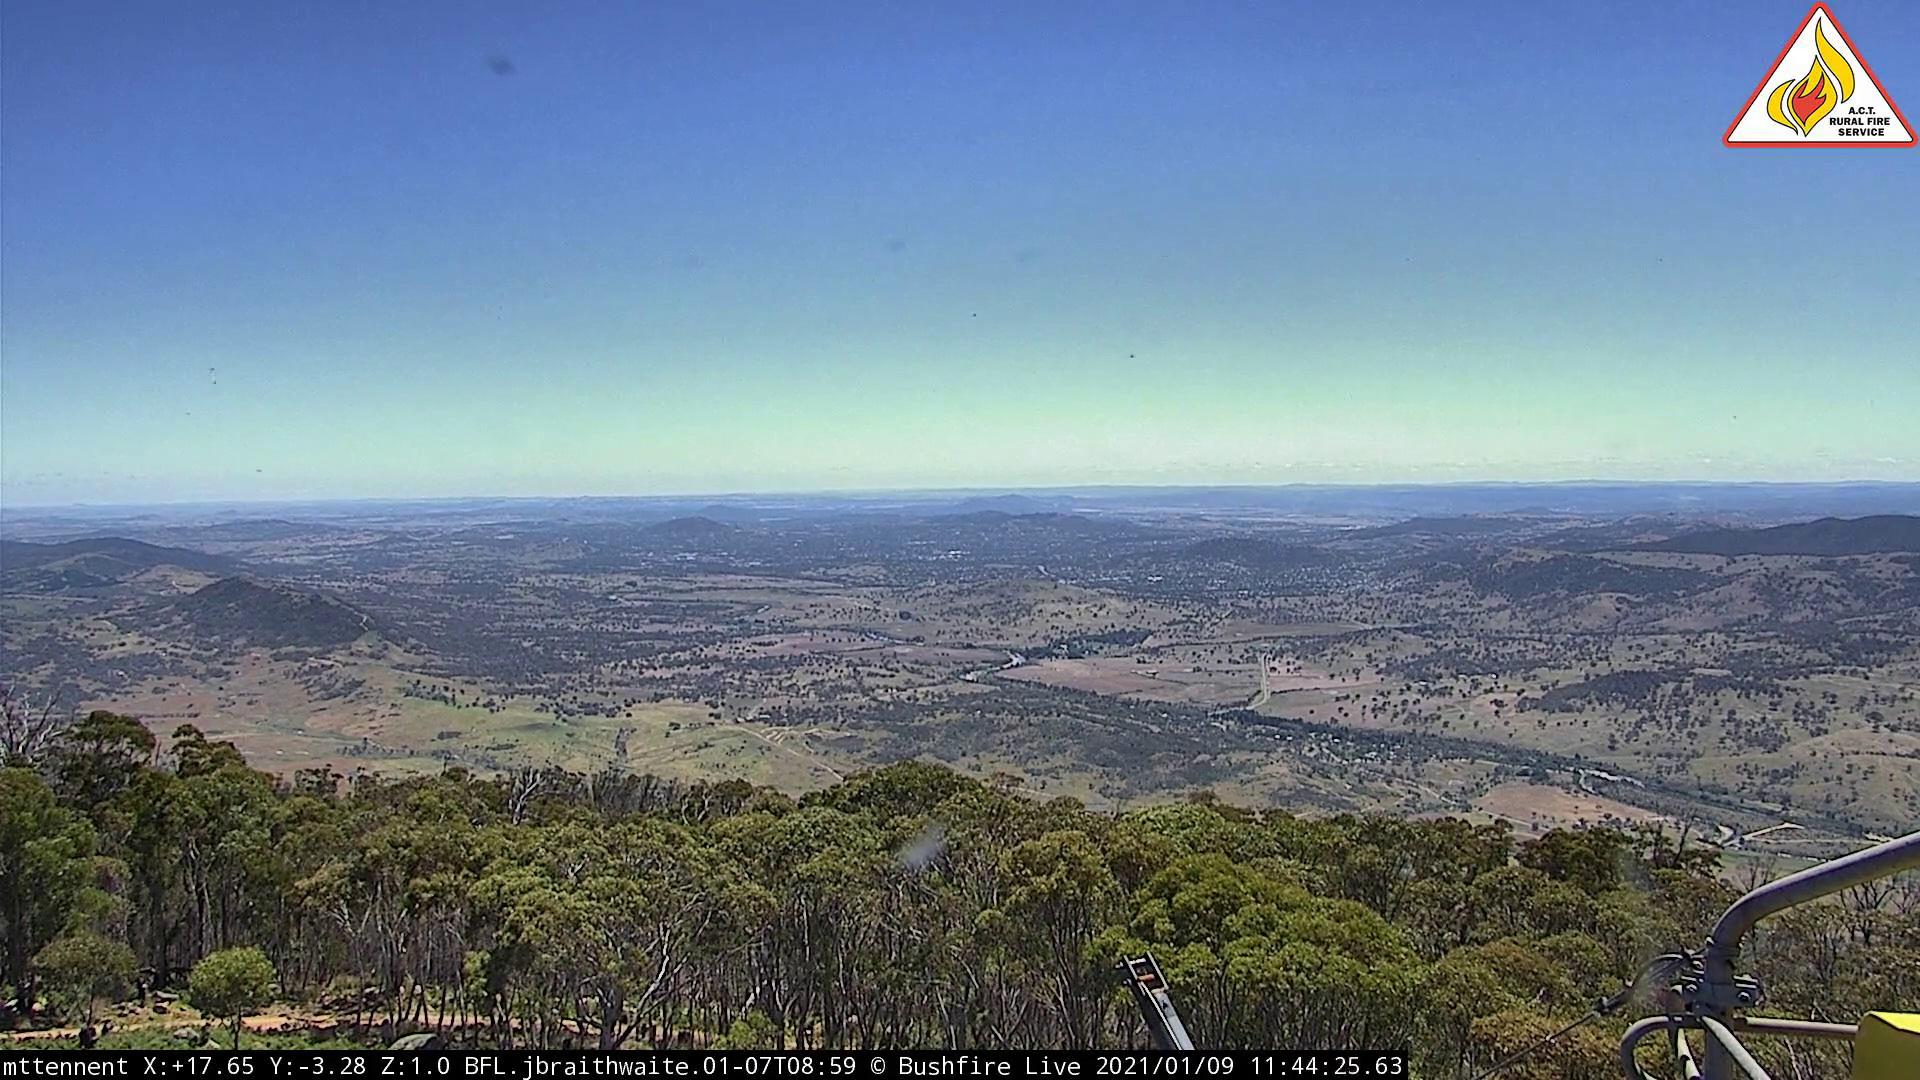Smoke: (1284, 500, 1309, 522)
